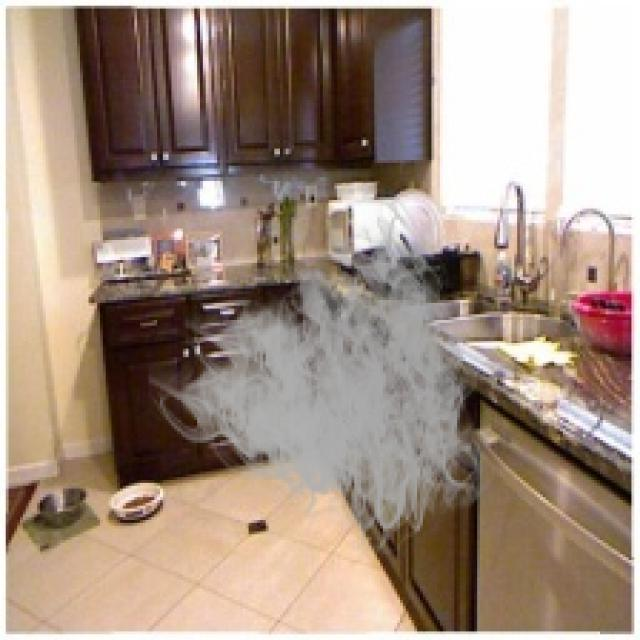Smoke: (148, 183, 503, 566)
